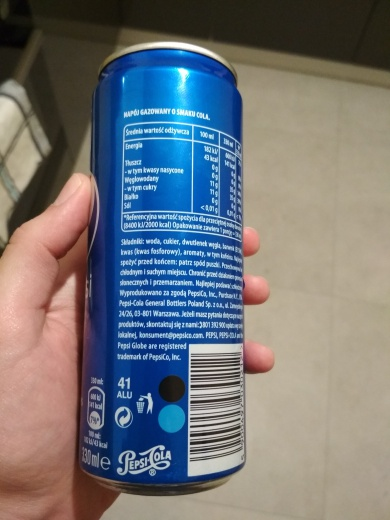pepsi: (70, 34, 250, 497)
